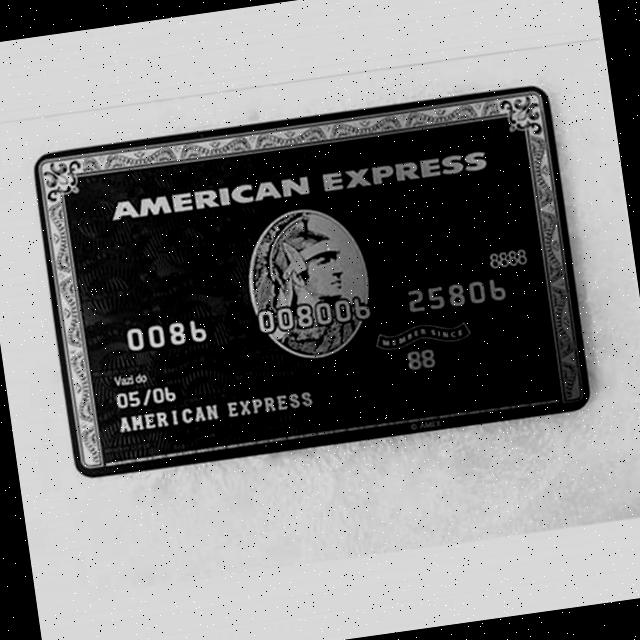card: (33, 89, 599, 481)
